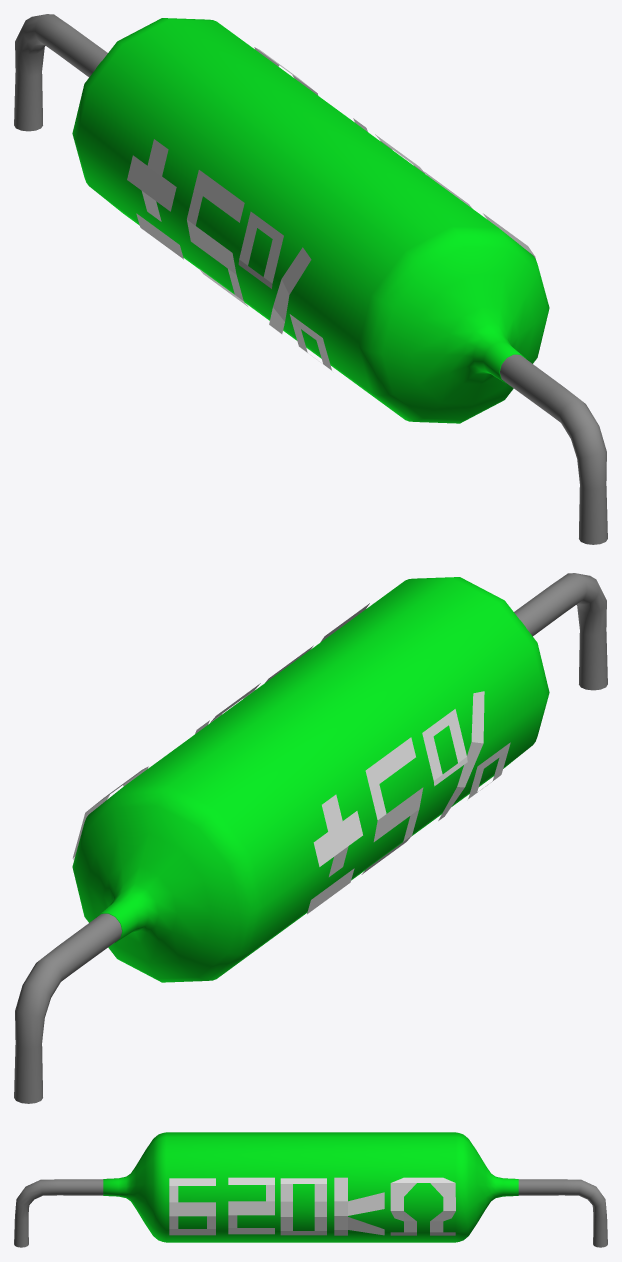
Rendered from resistor_cylinder_620kOhm.fbx.
3 renders of one model, top to bottom at view 1: azimuth 30°, elevation 25°; view 2: azimuth 150°, elevation 25°; view 3: azimuth 270°, elevation 25°, orthographic. The views are drawn at different scales.
Visible parts, largest first — view 1: rezystor_cylinder 620kOhm; view 2: rezystor_cylinder 620kOhm; view 3: rezystor_cylinder 620kOhm.
Boxes of the visible parts, x1,y1,x2,y2 form: rezystor_cylinder 620kOhm: (14, 14, 607, 544); rezystor_cylinder 620kOhm: (14, 573, 607, 1103); rezystor_cylinder 620kOhm: (14, 1132, 607, 1247).
Bounding box in the file's own units: 209 × 214 × 1074.
